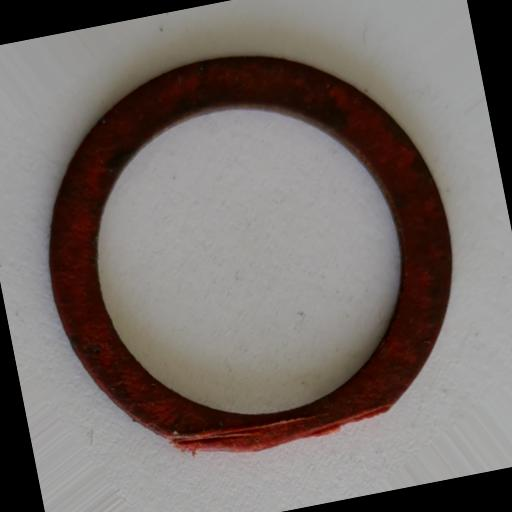defect: (166, 396, 392, 470)
